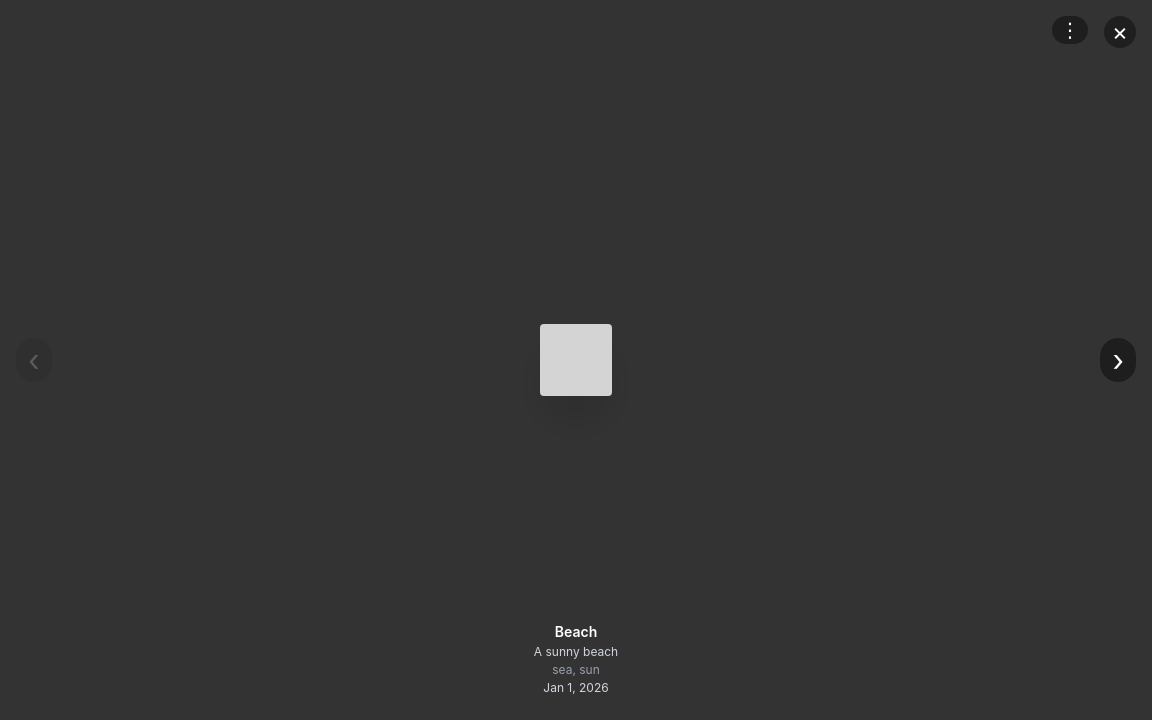
it: Lightbox.Menu › closes the dropdown when the menu button is clicked again
Click the button with test id "lightbox-menu-button" at {"x": 1070, "y": 30}, box [1052,16,1088,44]
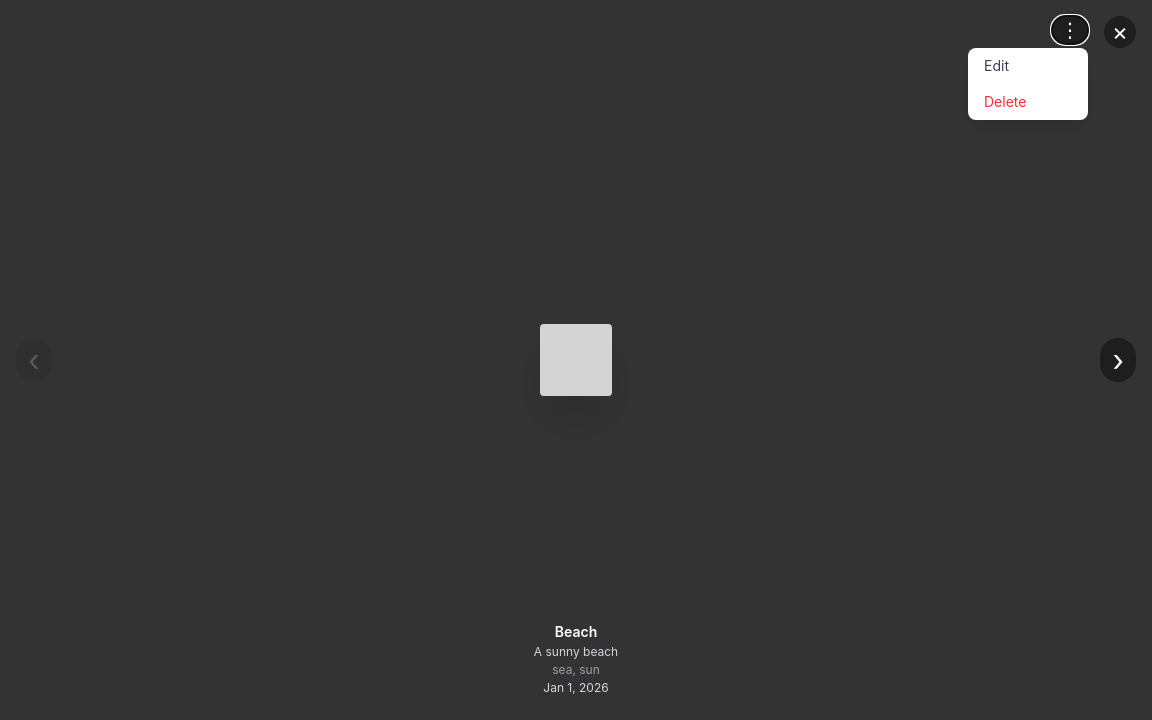
Click the button with test id "lightbox-menu-button" at {"x": 1070, "y": 30}, box [1052,16,1088,44]
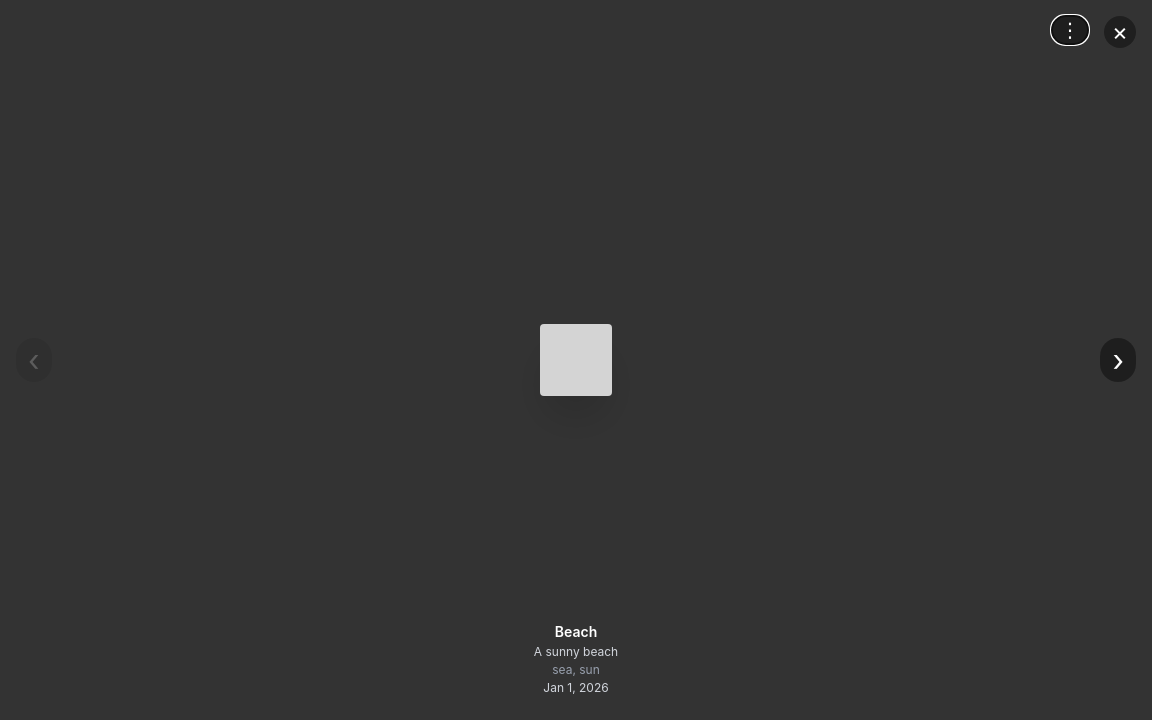
Check: the element with test id "lightbox-menu-dropdown" is gone
